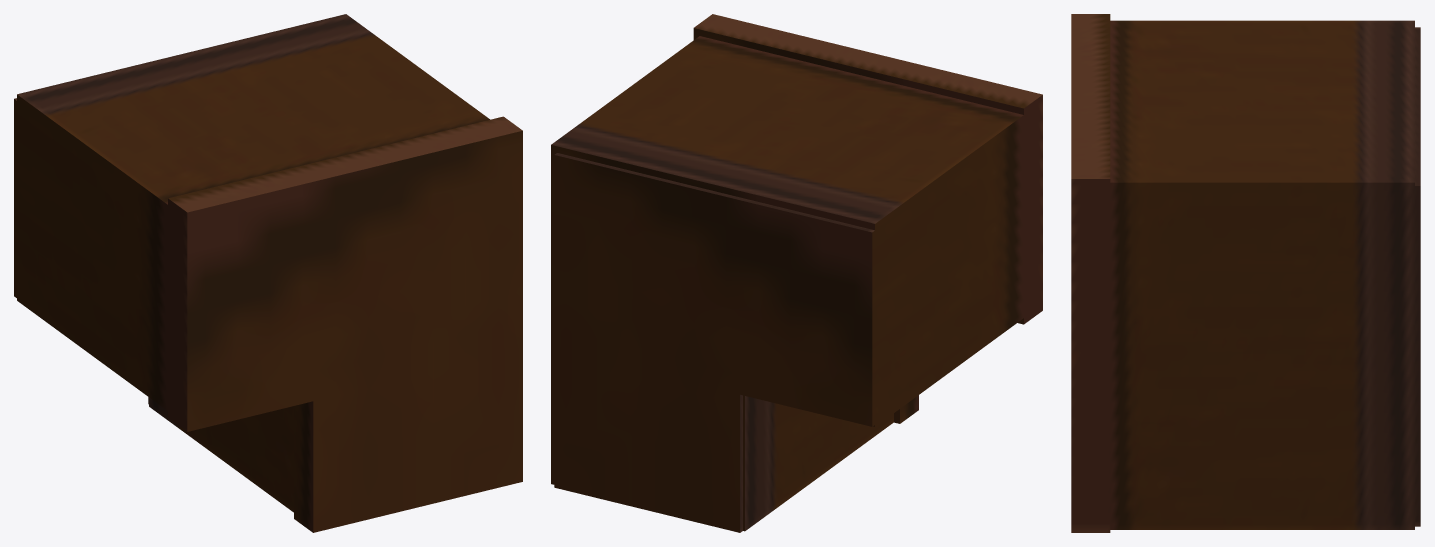
Rendered from pz_counter_dark_oak_corner.obj.
3 views of the same model, side by side, from view 1: azimuth 30°, elevation 25°; view 2: azimuth 150°, elevation 25°; view 3: azimuth 270°, elevation 25° (orthographic). The views are drawn at different scales.
Bounding box in the file's own units: 1 × 1 × 0.895.
Materials: 1 (1 with a texture image).
